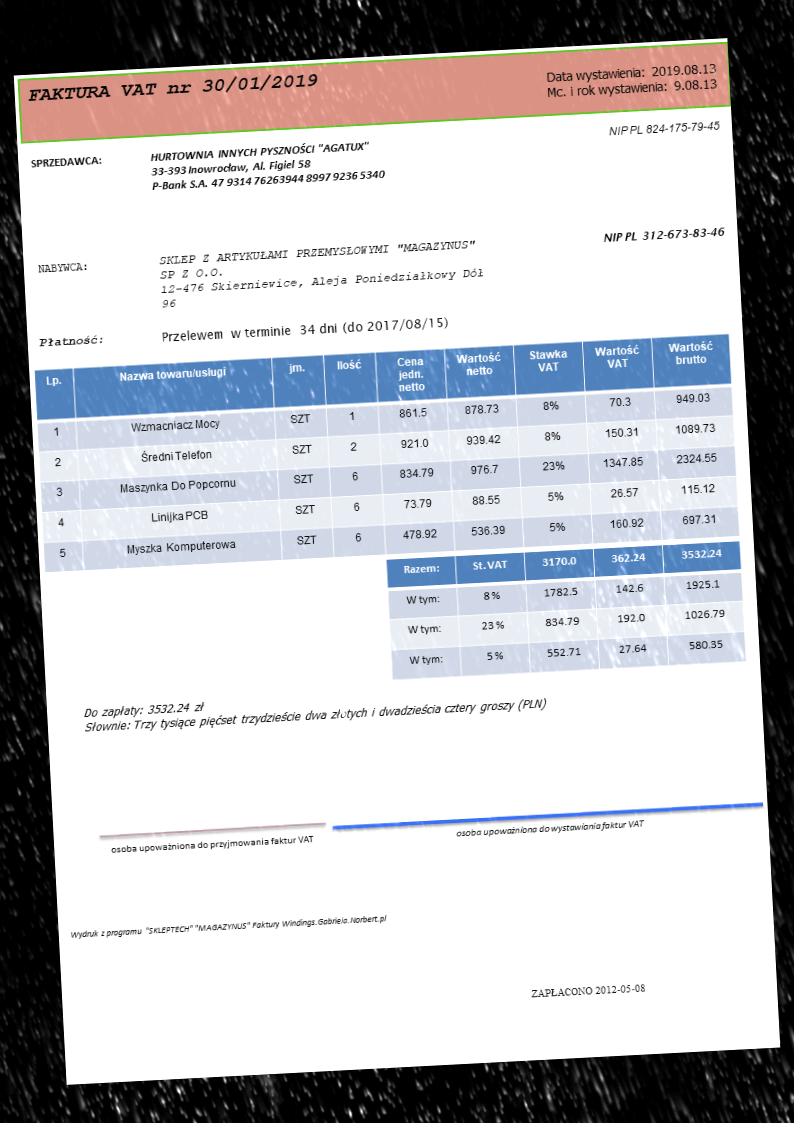Table: (33, 332, 741, 574), (385, 539, 747, 680), (81, 680, 548, 737)
TextBox: (155, 236, 488, 311), (147, 138, 387, 194), (25, 69, 319, 106), (67, 911, 389, 942), (159, 314, 450, 345), (542, 59, 719, 100), (107, 833, 315, 856), (453, 817, 646, 840), (600, 224, 727, 246), (606, 118, 722, 139), (529, 981, 647, 999), (28, 153, 103, 171), (37, 331, 105, 350), (34, 259, 90, 275)
